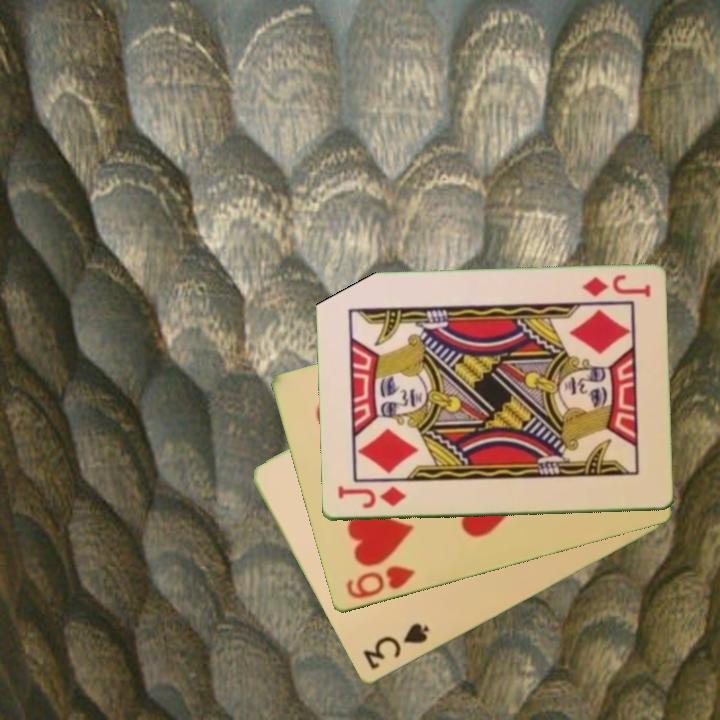3s: (359, 620, 432, 674)
6h: (342, 562, 418, 602)
Jd: (578, 271, 653, 300), (334, 483, 408, 512)
